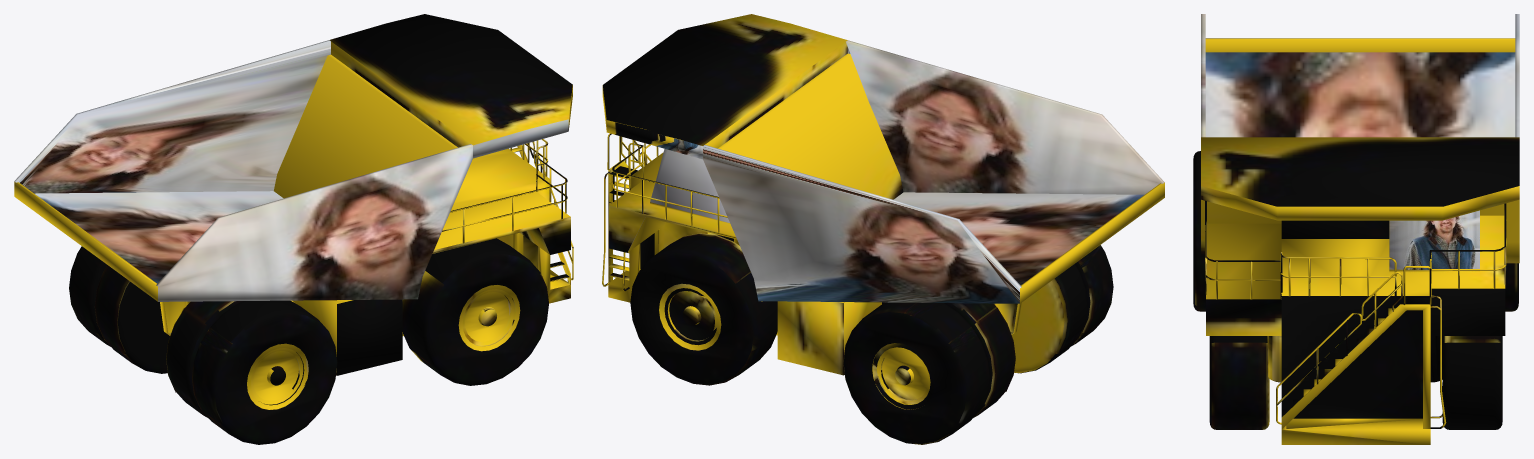
File: DuweTruck.obj
3 views of the same model, side by side, from view 1: azimuth 30°, elevation 25°; view 2: azimuth 150°, elevation 25°; view 3: azimuth 270°, elevation 25° (orthographic). The views are drawn at different scales.
Visible parts, largest first — view 1: Caterpillar_Truck_caterpillar; view 2: Caterpillar_Truck_caterpillar; view 3: Caterpillar_Truck_caterpillar.
Boxes of the visible parts, box(x1,y1,x2,y2) form: Caterpillar_Truck_caterpillar: box(14, 14, 573, 444); Caterpillar_Truck_caterpillar: box(602, 14, 1164, 444); Caterpillar_Truck_caterpillar: box(1193, 14, 1519, 444).
Bounding box in the file's own units: 12.35 × 6.59 × 7.
Materials: 1 (1 with a texture image).
